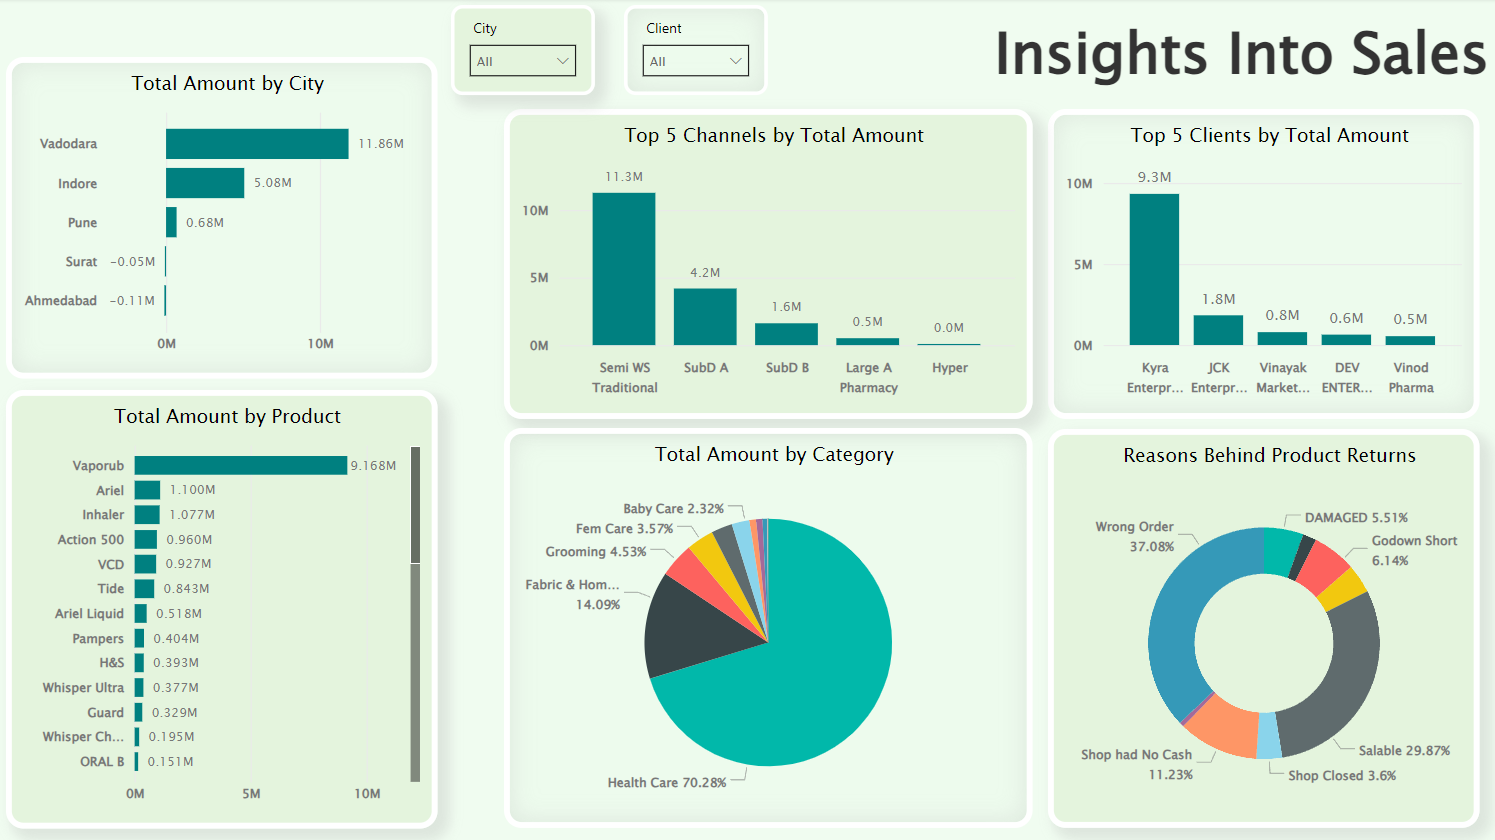

This screenshot's page, from the dashboard's own definition file:
{"tool":"powerbi","page":{"name":"Dashboard","canvas":[1280,720],"ordinal":0},"visuals":[{"type":"donutChart","title":"Reasons Behind Product Returns","fields":{"Y":["CountNonNull(sales_data.reason for transaction)"],"Series":["sales_data.reason for transaction"]},"box":[897.9,368.2,369.4,341.5],"z":0},{"type":"barChart","title":"Total Amount by Product","fields":{"Y":["Sum(sales_data.amount)"],"Category":["sales_data.brand"]},"box":[7,334.9,369,375.1],"z":1000},{"type":"columnChart","title":"Top 5 Clients by Total Amount","fields":{"Category":["sales_data.customer_name"],"Y":["Sum(sales_data.amount)"]},"box":[897.9,95.2,369.4,264.8],"z":2000},{"type":"columnChart","title":"Top 5 Channels by Total Amount","fields":{"Y":["Sum(sales_data.amount)"],"Category":["sales_data.channel_description"]},"box":[432.8,95.3,452,264.9],"z":3000},{"type":"clusteredBarChart","title":"Total Amount by City","fields":{"Category":["sales_data.City"],"Y":["Sum(sales_data.amount)"]},"box":[7,50.7,369,275.4],"z":4000},{"type":"pieChart","title":"Total Amount by Category","fields":{"Y":["Sum(sales_data.amount)"],"Category":["sales_data.Category"]},"box":[432.8,368.1,452,341.9],"z":5000},{"type":"textbox","box":[482.3,6,797.8,88.9],"z":6000},{"type":"slicer","fields":{"Values":["sales_data.City"]},"box":[387,6,123,76.6],"z":7000},{"type":"slicer","fields":{"Values":["sales_data.customer_name"]},"box":[535.3,6,123.1,77],"z":8000}]}

Visuals, with their boxes in screenshot pixels (x1, y1, x2, y2), scaled from the page's 1280x720 canvas onto the 1495x840 screenshot:
"Reasons Behind Product Returns" donutChart: pyautogui.locateOnScreen(1049, 430, 1480, 828)
"Total Amount by Product" barChart: pyautogui.locateOnScreen(8, 391, 439, 828)
"Top 5 Clients by Total Amount" columnChart: pyautogui.locateOnScreen(1049, 111, 1480, 420)
"Top 5 Channels by Total Amount" columnChart: pyautogui.locateOnScreen(505, 111, 1033, 420)
"Total Amount by City" clusteredBarChart: pyautogui.locateOnScreen(8, 59, 439, 380)
"Total Amount by Category" pieChart: pyautogui.locateOnScreen(505, 429, 1033, 828)
textbox: pyautogui.locateOnScreen(563, 7, 1494, 111)
slicer - sales_data.City: pyautogui.locateOnScreen(452, 7, 596, 96)
slicer - sales_data.customer_name: pyautogui.locateOnScreen(625, 7, 769, 97)
